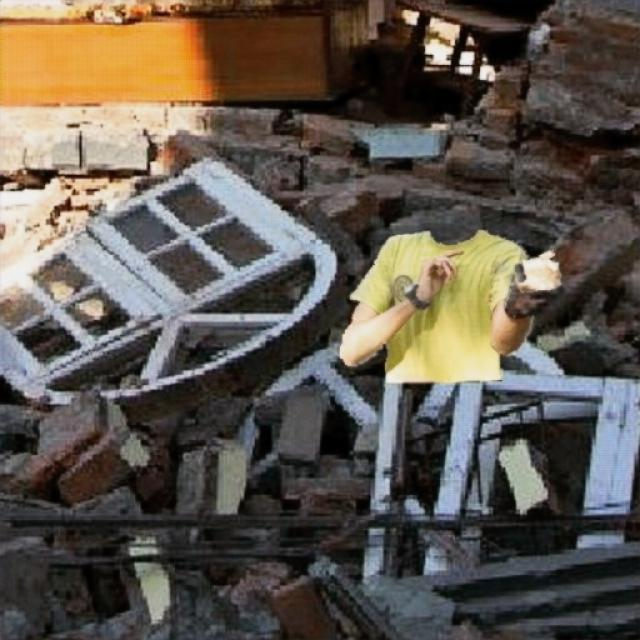Person in Rubble: (340, 230, 561, 381)
